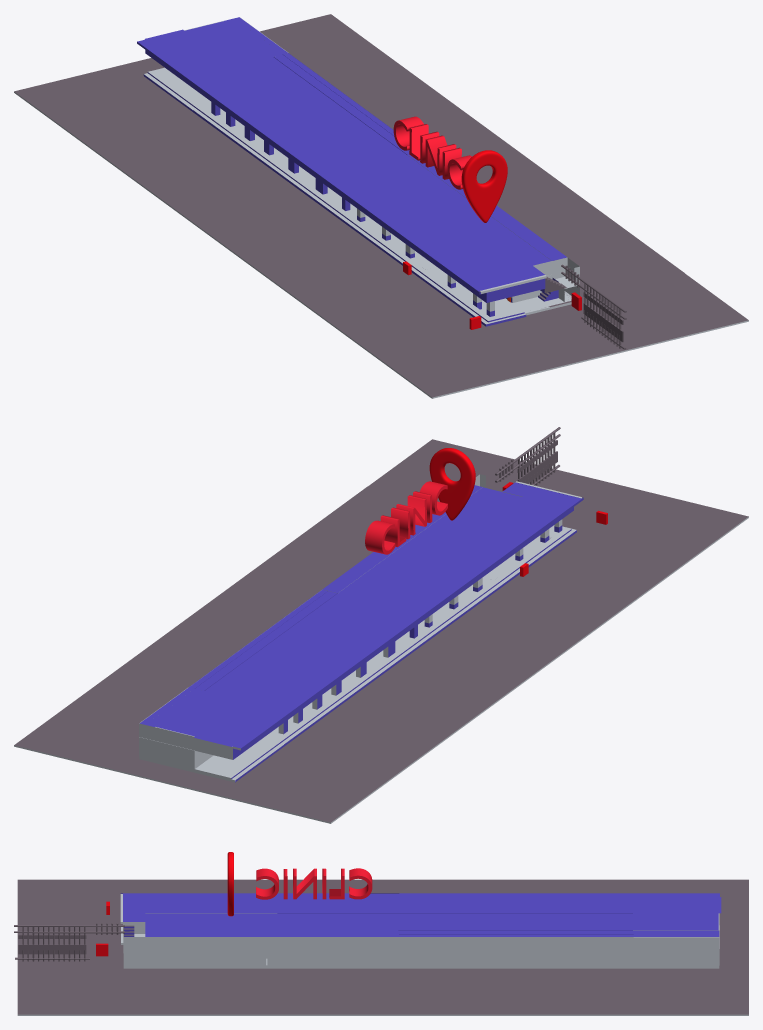
Rendered from clinic_map.glb.
The picture shows the model from 3 angles, top to bottom: view 1: azimuth 30°, elevation 25°; view 2: azimuth 150°, elevation 25°; view 3: azimuth 270°, elevation 25°; orthographic projection. The views are drawn at different scales.
Parts seen in each view (by area): view 1: Cylinder.1059, Text, dot; view 2: Cylinder.1059, Text, dot; view 3: Cylinder.1059, Text, Cylinder.002, dot, Cylinder.001, Cylinder.005.
Part boxes in pixels (left/top/right/bottom): Cylinder.1059: left=14, top=14, right=748, bottom=398; Text: left=393, top=116, right=472, bottom=189; dot: left=461, top=150, right=507, bottom=222; Cylinder.1059: left=14, top=439, right=748, bottom=823; Text: left=365, top=481, right=447, bottom=554; dot: left=429, top=448, right=475, bottom=520; Cylinder.1059: left=17, top=879, right=748, bottom=1015; Text: left=256, top=868, right=372, bottom=899; Cylinder.002: left=18, top=944, right=86, bottom=954; dot: left=227, top=852, right=233, bottom=916; Cylinder.001: left=18, top=934, right=86, bottom=938; Cylinder.005: left=14, top=931, right=124, bottom=933.
Size of what is drawn, in the model's own units: 187 by 65.01 by 429.
